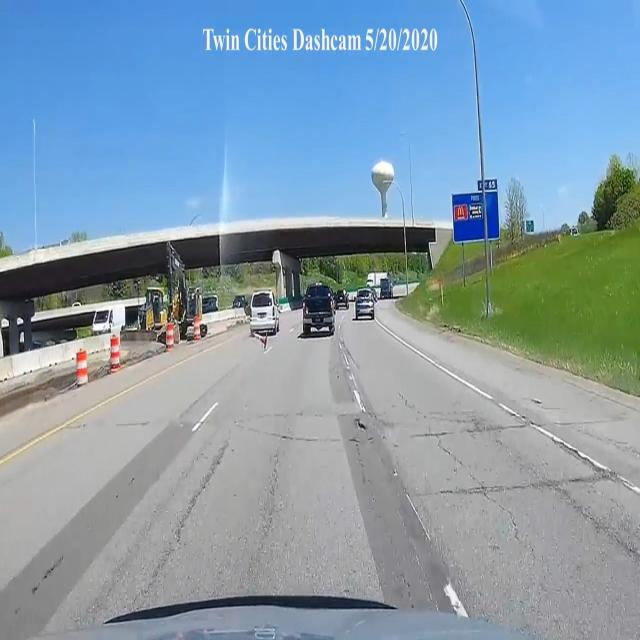cone: (250, 324, 268, 356)
